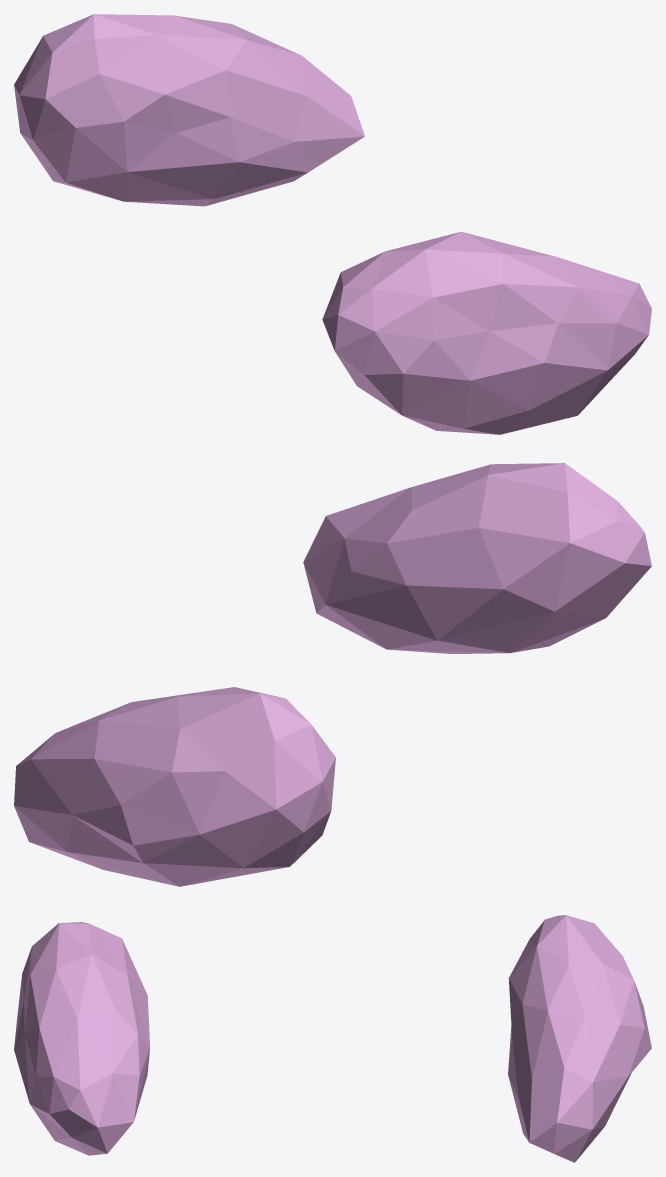
3 renders of one model, top to bottom at view 1: azimuth 30°, elevation 25°; view 2: azimuth 150°, elevation 25°; view 3: azimuth 270°, elevation 25°, orthographic. The views are drawn at different scales.
Parts seen in each view (by area): view 1: 757.obj; view 2: 757.obj; view 3: 757.obj.
Boxes of the visible parts, x1,y1,x2,y2 form: 757.obj: (14,14,651,434); 757.obj: (14,463,651,886); 757.obj: (14,915,651,1162).
Size of the model in its own units: 386 by 242 by 817.
